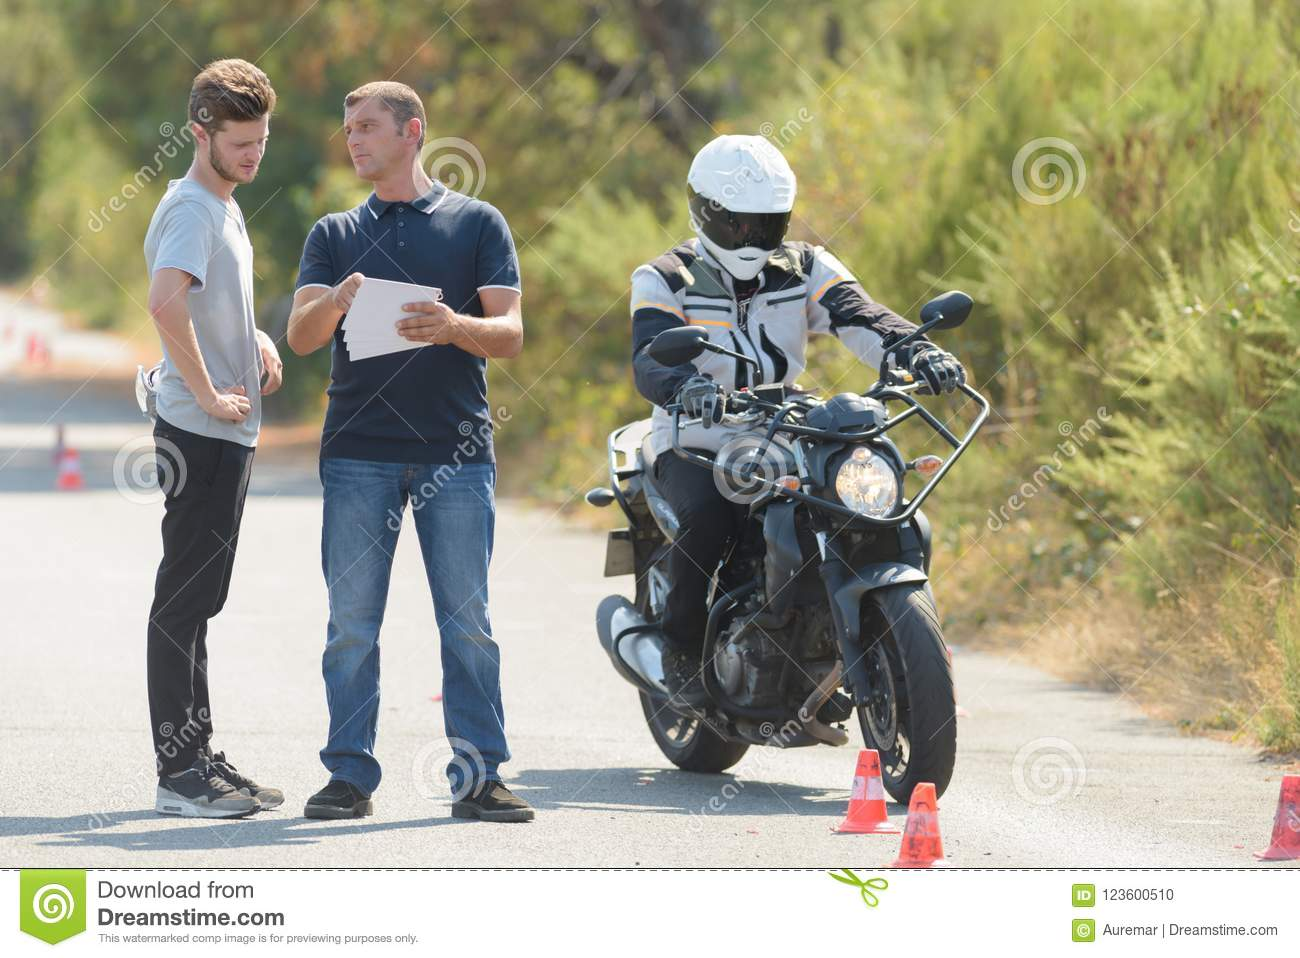helmet: (681, 136, 804, 273)
